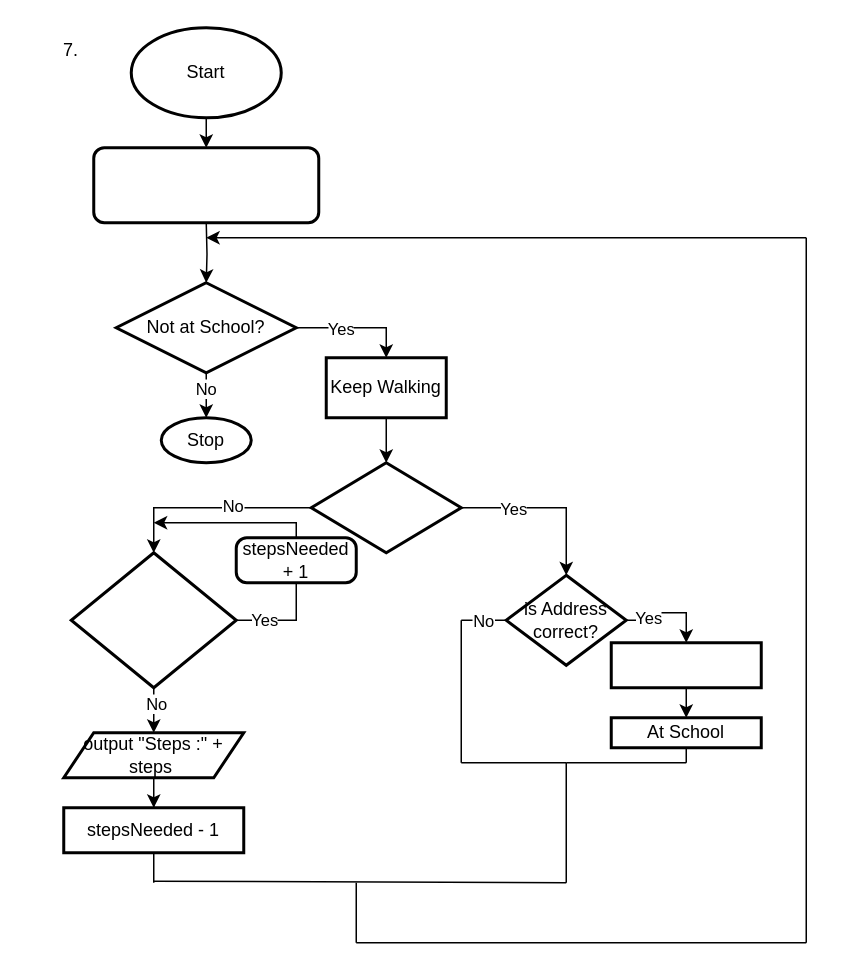
Image size: 845x971. Some labels were removed from this diagram. Each missing label, with the box of its shape:
conform address: (609, 640, 762, 688)
Declarations num steps = 0 num stepsNeeded = 0: (92, 146, 320, 224)
is at School?: (309, 460, 462, 554)
steps > stepsNeeded: (69, 550, 237, 688)
